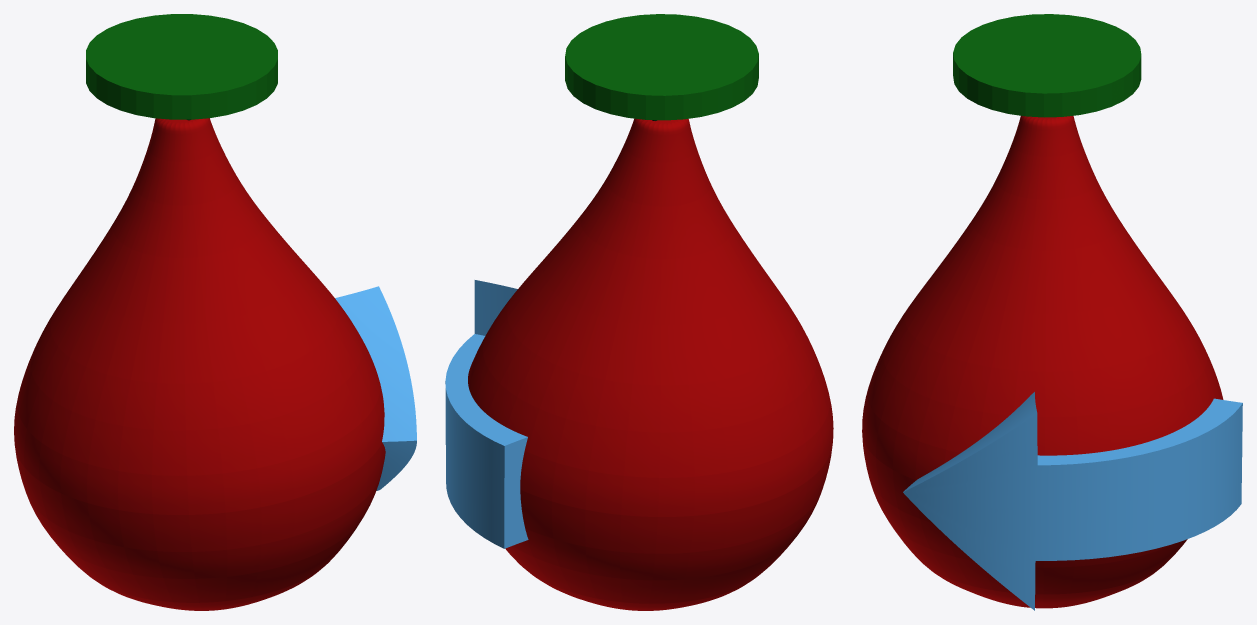
Rendered from PunchingBall_Droite.fbx.
3 views of the same model, side by side, from view 1: azimuth 30°, elevation 25°; view 2: azimuth 150°, elevation 25°; view 3: azimuth 270°, elevation 25° (orthographic). The views are drawn at different scales.
Visible parts, largest first — view 1: PunchingBall_Mini, Socle, LEFT_ARROW; view 2: PunchingBall_Mini, Socle, LEFT_ARROW; view 3: PunchingBall_Mini, LEFT_ARROW, Socle.
Boxes of the visible parts, bbox=[...] form: PunchingBall_Mini: bbox=[14, 118, 385, 610]; Socle: bbox=[86, 14, 277, 119]; LEFT_ARROW: bbox=[335, 286, 416, 490]; PunchingBall_Mini: bbox=[468, 118, 833, 610]; Socle: bbox=[565, 14, 758, 120]; LEFT_ARROW: bbox=[445, 280, 528, 548]; PunchingBall_Mini: bbox=[862, 115, 1223, 608]; LEFT_ARROW: bbox=[903, 392, 1242, 610]; Socle: bbox=[953, 14, 1141, 117].
Size of the model in its own units: 293 by 453 by 295.
